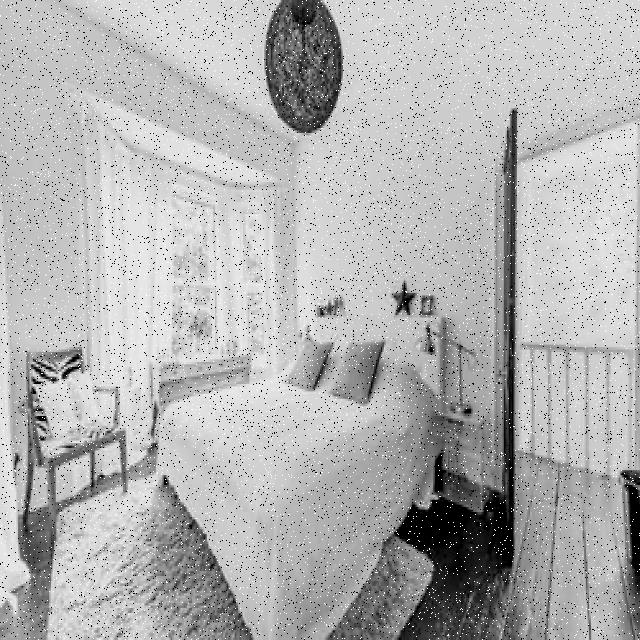bed: (152, 326, 425, 600)
